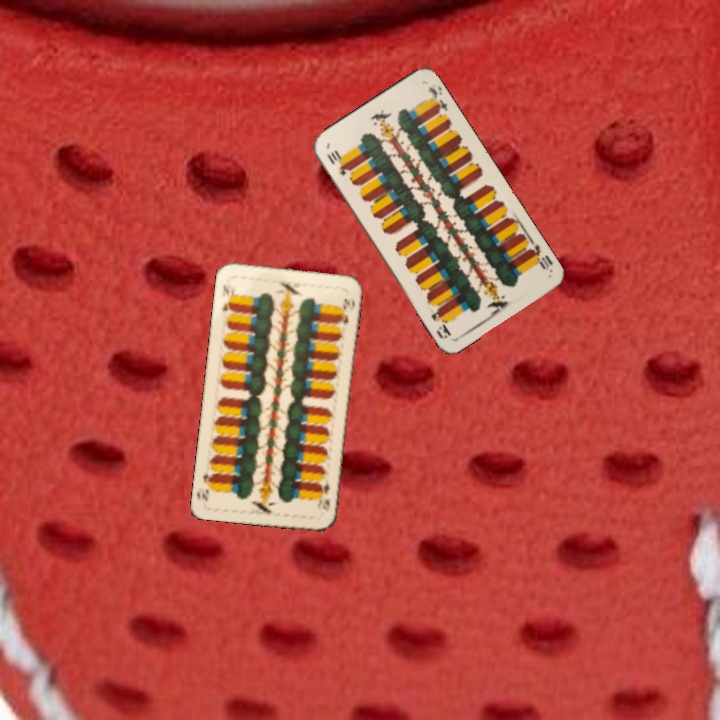E10: (522, 237, 555, 273), (323, 148, 350, 178), (315, 476, 332, 514), (218, 280, 237, 314)
